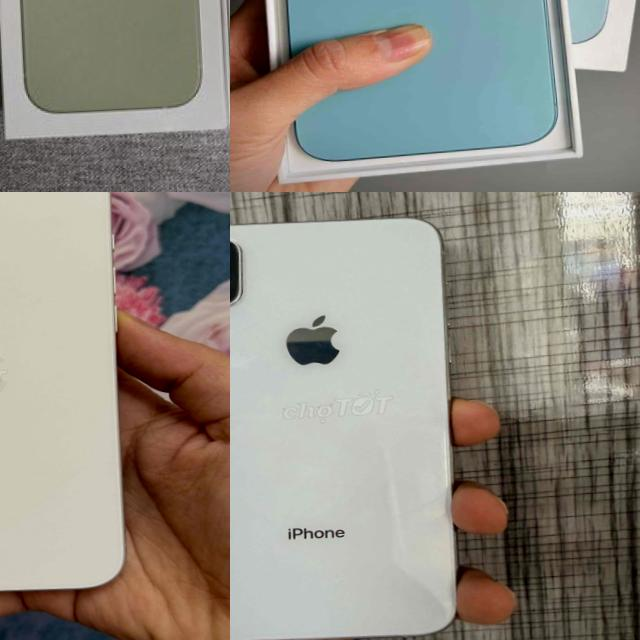gen_16: (0, 192, 147, 615), (255, 0, 573, 169)
gen_17: (0, 0, 215, 124)
gen_x_xs: (230, 210, 467, 640)
